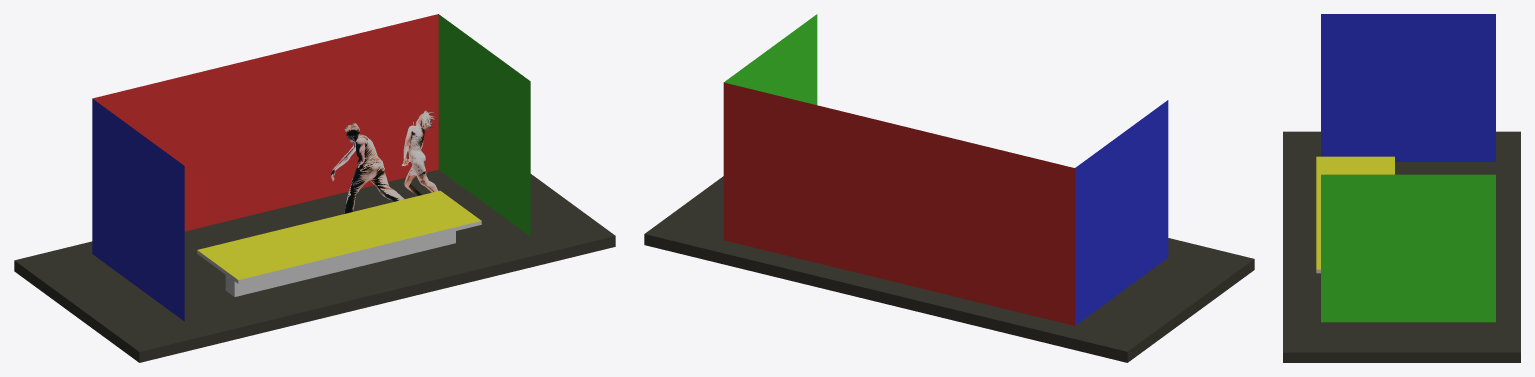
File: sunline v7.dae
3 views of the same model, side by side, from view 1: azimuth 30°, elevation 25°; view 2: azimuth 150°, elevation 25°; view 3: azimuth 270°, elevation 25° (orthographic). The views are drawn at different scales.
Visible parts, largest first — view 1: front, floor, right, left, desktop, base, Extrude, Extrude_2, deskbase; view 2: front, floor, left, right; view 3: right, left, floor, desktop.
Part boxes in pixels (x1,y1,x2,y2): front: (92,14,438,231); floor: (14,169,615,362); right: (438,14,530,236); left: (92,98,184,321); desktop: (197,190,481,279); base: (225,231,455,296); Extrude: (331,122,404,213); Extrude_2: (401,110,437,196); deskbase: (197,221,481,283); front: (723,82,1074,325); floor: (644,176,1254,362); left: (1075,100,1168,325); right: (724,14,817,104); right: (1321,174,1495,322); left: (1321,14,1495,161); floor: (1283,131,1520,362); desktop: (1316,156,1394,269).
Size of the model in its own units: 19.15 by 6.4 by 8.72.
